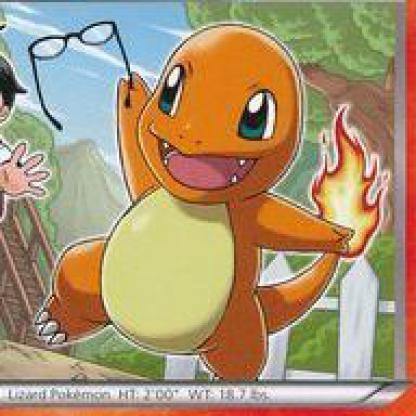Charmander: (55, 16, 415, 380)
